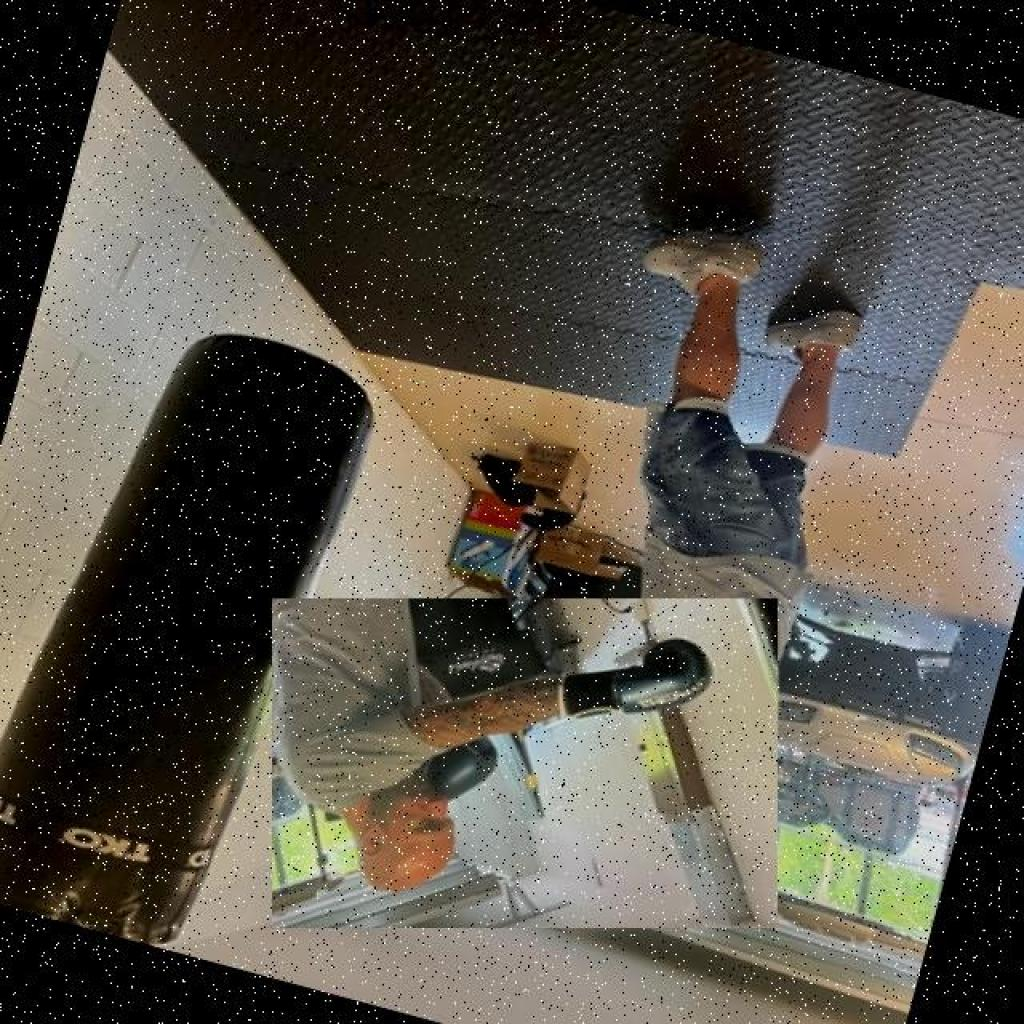jab: (272, 598, 778, 928)
